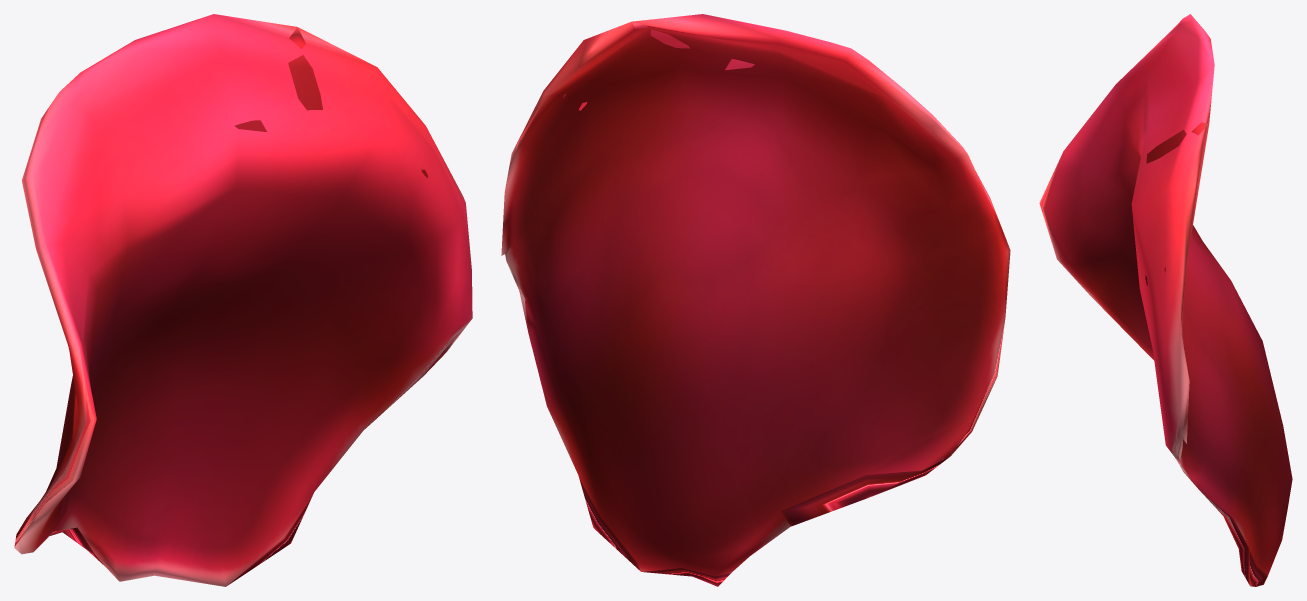
The picture shows the model from 3 angles, left to right: view 1: azimuth 30°, elevation 25°; view 2: azimuth 150°, elevation 25°; view 3: azimuth 270°, elevation 25°; orthographic projection. The views are drawn at different scales.
Visible parts, largest first — view 1: PM3D_Cube3D_22.004; view 2: PM3D_Cube3D_22.004; view 3: PM3D_Cube3D_22.004.
Boxes of the visible parts, box(x1,y1,x2,y2) form: PM3D_Cube3D_22.004: box(14, 14, 472, 586); PM3D_Cube3D_22.004: box(501, 14, 1010, 586); PM3D_Cube3D_22.004: box(1039, 14, 1292, 586).
Size of the model in its own units: 0.9696 by 1.14 by 0.5174.
1 material, 1 textured.
